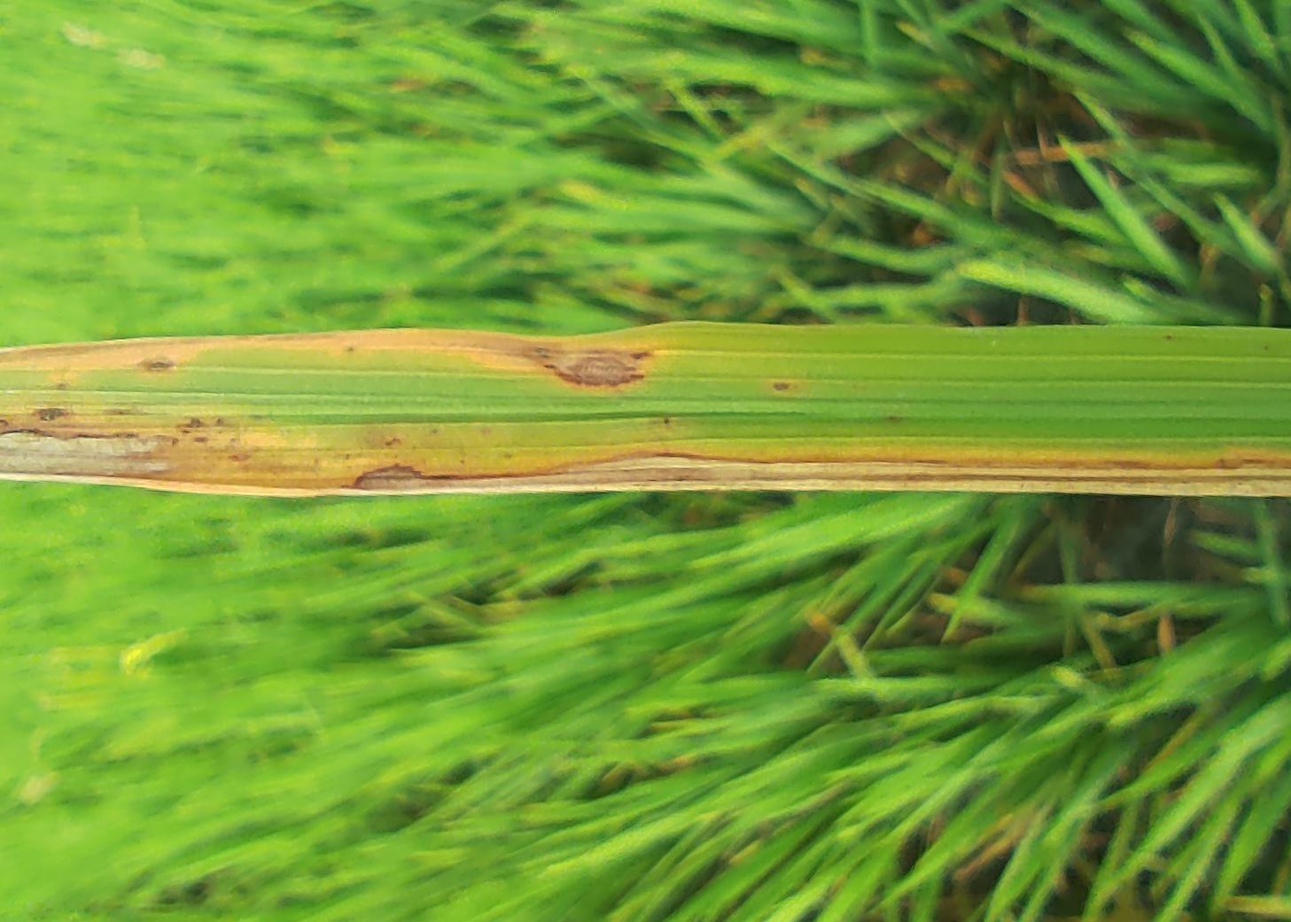LEAF: (0, 322, 1290, 496)
LEAF BLAST: (354, 452, 1290, 495), (0, 429, 177, 476), (521, 347, 654, 385), (38, 407, 65, 421), (144, 359, 173, 370)
